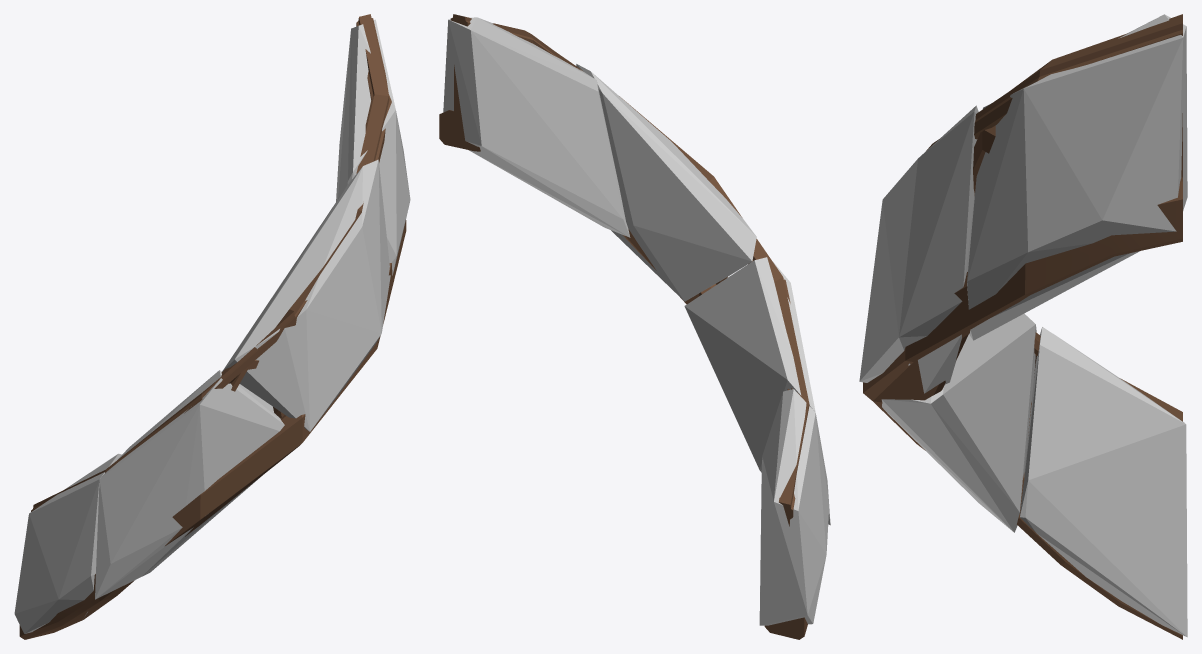
The model's file is SM_Bld_Stairs_Curved_Railing_01.fbx.
The picture shows the model from 3 angles, left to right: view 1: azimuth 30°, elevation 25°; view 2: azimuth 150°, elevation 25°; view 3: azimuth 270°, elevation 25°; orthographic projection. The views are drawn at different scales.
Visible parts, largest first — view 1: SM_Bld_Stairs_Curved_Railing_01_ConvexHulls, SM_Bld_Stairs_Curved_Railing_01; view 2: SM_Bld_Stairs_Curved_Railing_01_ConvexHulls, SM_Bld_Stairs_Curved_Railing_01; view 3: SM_Bld_Stairs_Curved_Railing_01_ConvexHulls, SM_Bld_Stairs_Curved_Railing_01.
Part boxes in pixels (x1,y1,x2,y2): SM_Bld_Stairs_Curved_Railing_01_ConvexHulls: [14, 19, 410, 633]; SM_Bld_Stairs_Curved_Railing_01: [19, 14, 406, 639]; SM_Bld_Stairs_Curved_Railing_01_ConvexHulls: [443, 17, 830, 625]; SM_Bld_Stairs_Curved_Railing_01: [439, 14, 809, 639]; SM_Bld_Stairs_Curved_Railing_01_ConvexHulls: [859, 14, 1187, 637]; SM_Bld_Stairs_Curved_Railing_01: [863, 14, 1182, 639].
Size of the model in its own units: 284 by 137 by 398.
2 materials, 1 textured.
